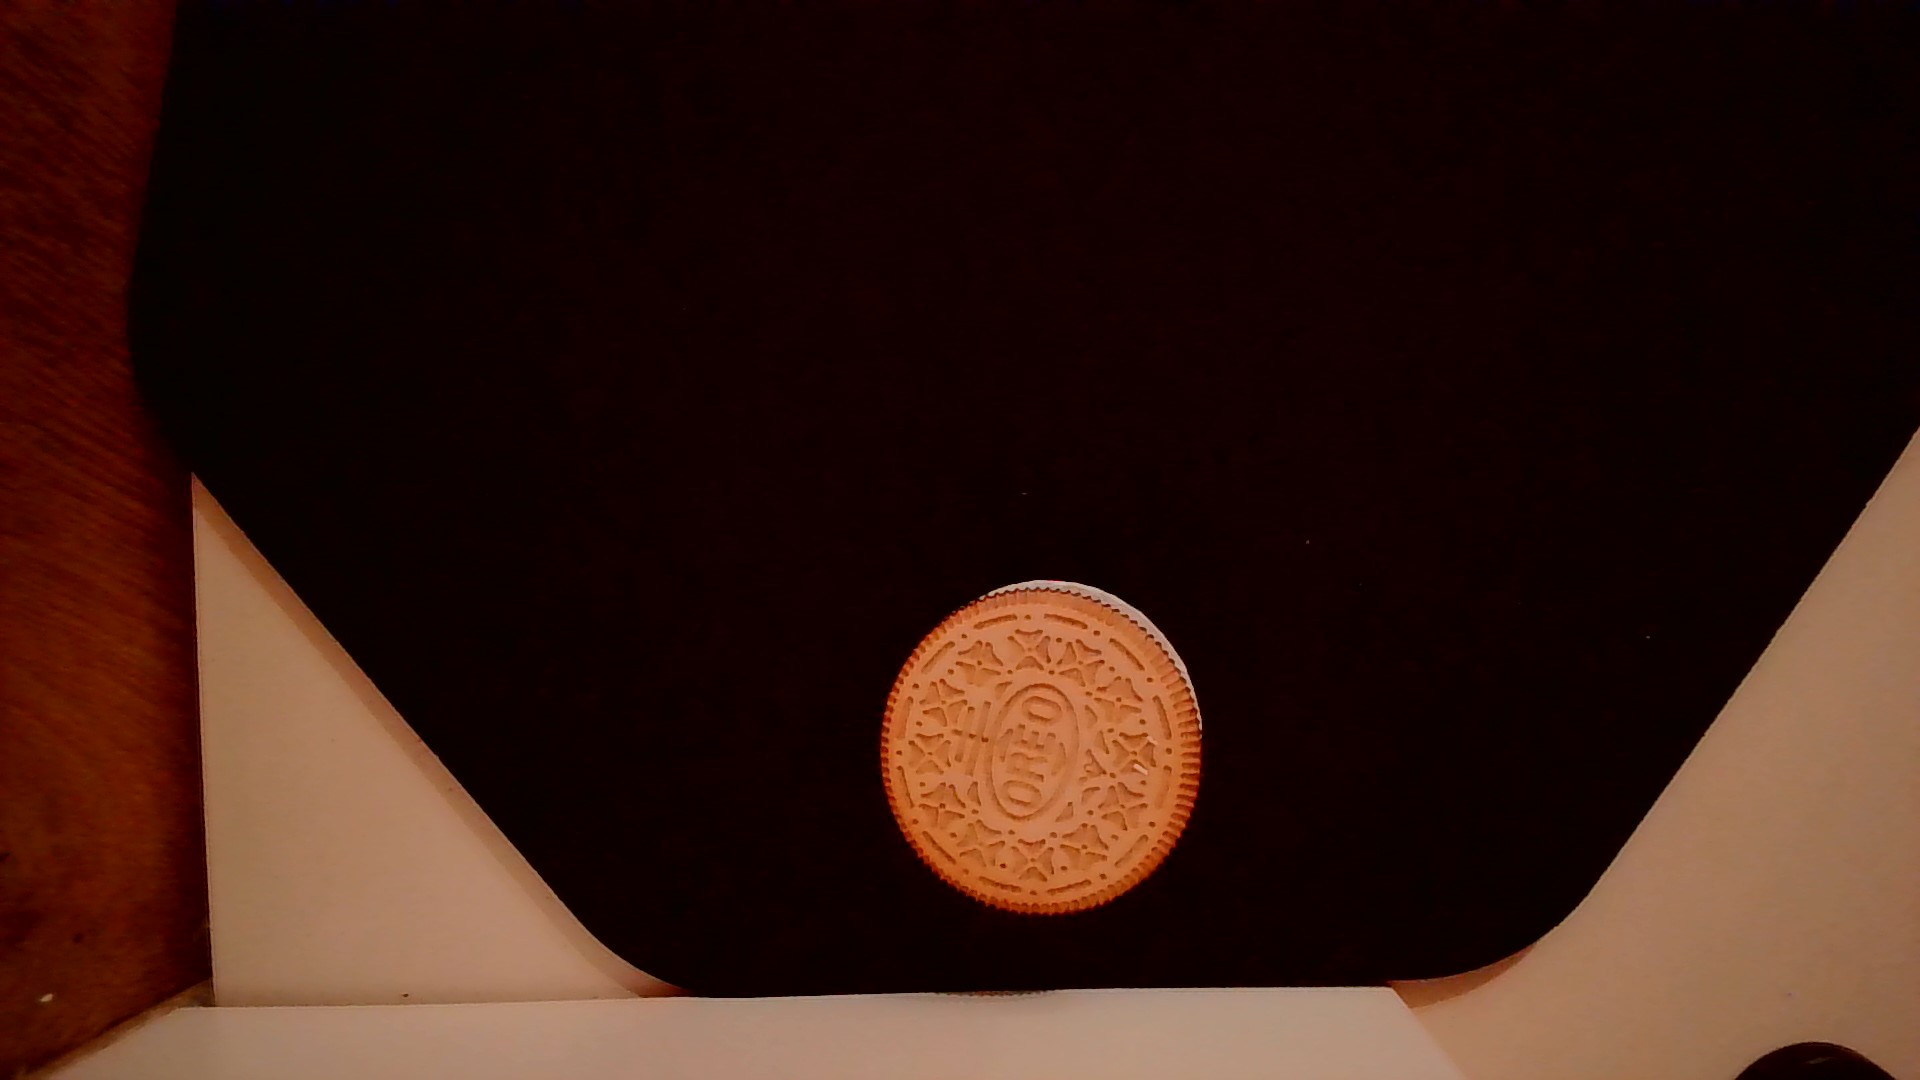Décalé: (972, 567, 1211, 749)
Oréo: (864, 575, 1212, 923)
